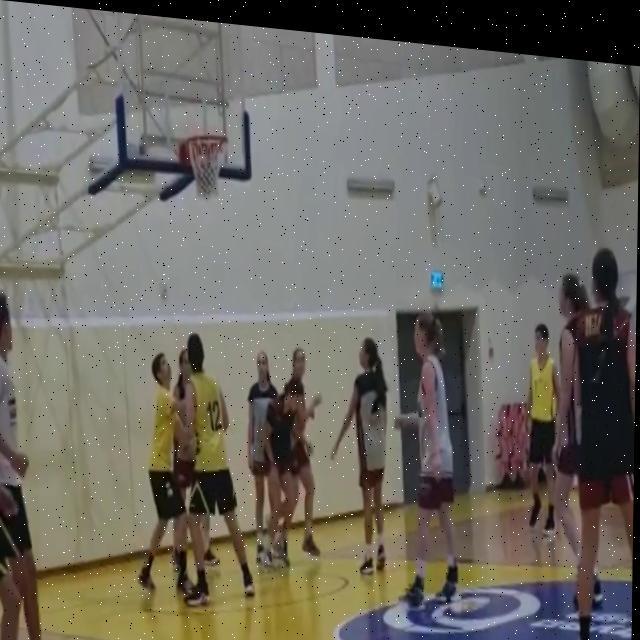basketball: (197, 160, 217, 201)
hoop: (186, 130, 230, 205), (186, 131, 230, 205)
